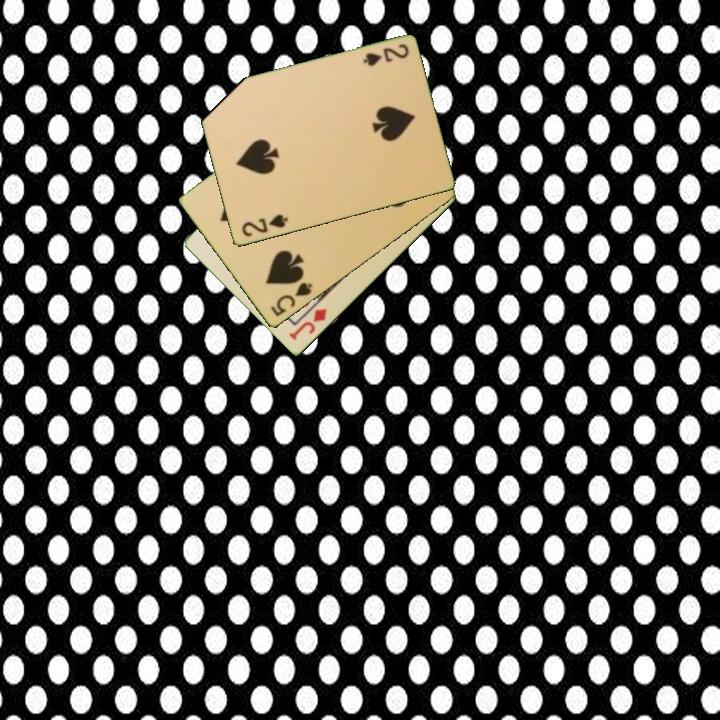2s: (238, 211, 291, 240), (359, 41, 412, 70)
5s: (267, 279, 315, 320)
Jd: (286, 305, 330, 343)
